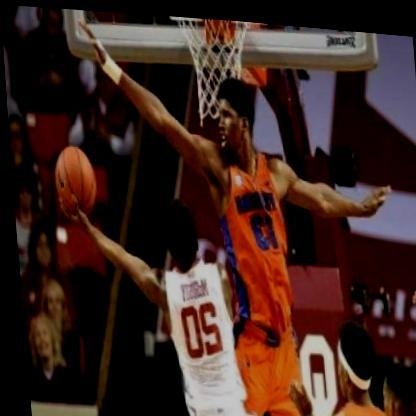basketball: (48, 143, 95, 217)
